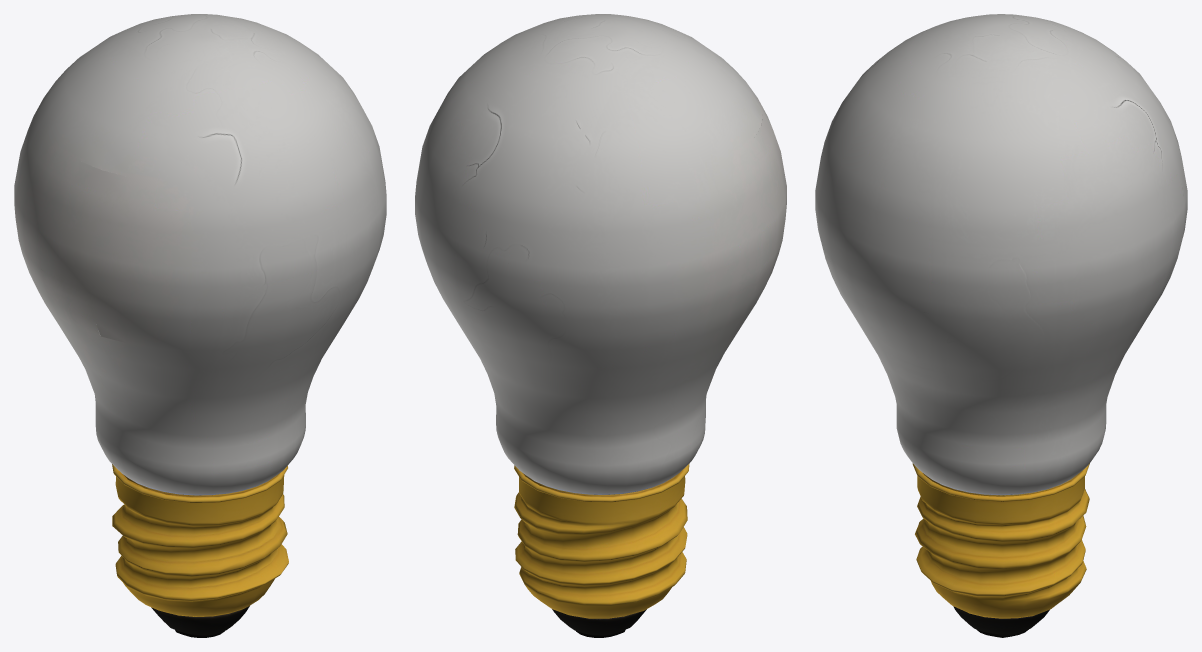
The model's file is bulb.glb.
3 renders of one model, left to right at view 1: azimuth 30°, elevation 25°; view 2: azimuth 150°, elevation 25°; view 3: azimuth 270°, elevation 25°, orthographic.
Visible parts, largest first — view 1: tripo_node_69ee5211-7b03-4ef4-ba68-8e6b3cc0005f; view 2: tripo_node_69ee5211-7b03-4ef4-ba68-8e6b3cc0005f; view 3: tripo_node_69ee5211-7b03-4ef4-ba68-8e6b3cc0005f.
Boxes of the visible parts, box(x1,y1,x2,y2) form: tripo_node_69ee5211-7b03-4ef4-ba68-8e6b3cc0005f: box(14, 14, 386, 637); tripo_node_69ee5211-7b03-4ef4-ba68-8e6b3cc0005f: box(415, 14, 786, 637); tripo_node_69ee5211-7b03-4ef4-ba68-8e6b3cc0005f: box(815, 14, 1187, 637).
Size of the model in its own units: 0.5652 by 1 by 0.5652.
1 material, 1 textured.
